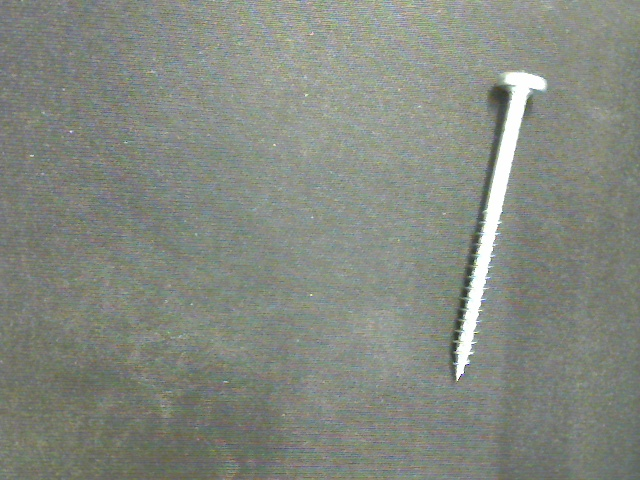Screw: (452, 71, 547, 381)
